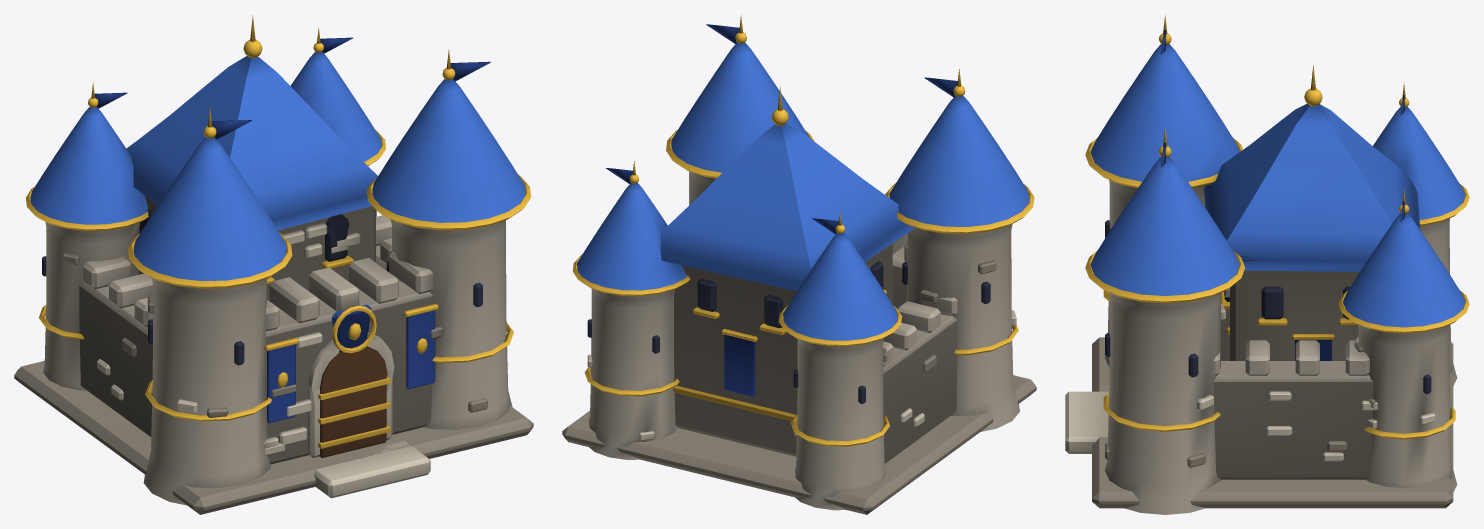
Rendered from castle_lv1.glb.
3 views of the same model, side by side, from view 1: azimuth 30°, elevation 25°; view 2: azimuth 150°, elevation 25°; view 3: azimuth 270°, elevation 25° (orthographic). The views are drawn at different scales.
Visible parts, largest first — view 1: Castle; view 2: Castle; view 3: Castle.
Part boxes in pixels (<box>): Castle: <box>14,15,533,514</box>; Castle: <box>562,14,1036,514</box>; Castle: <box>1065,15,1469,514</box>.
Bounding box in the file's own units: 2.3 × 2.19 × 2.18.
Materials: 1 (1 with a texture image).
